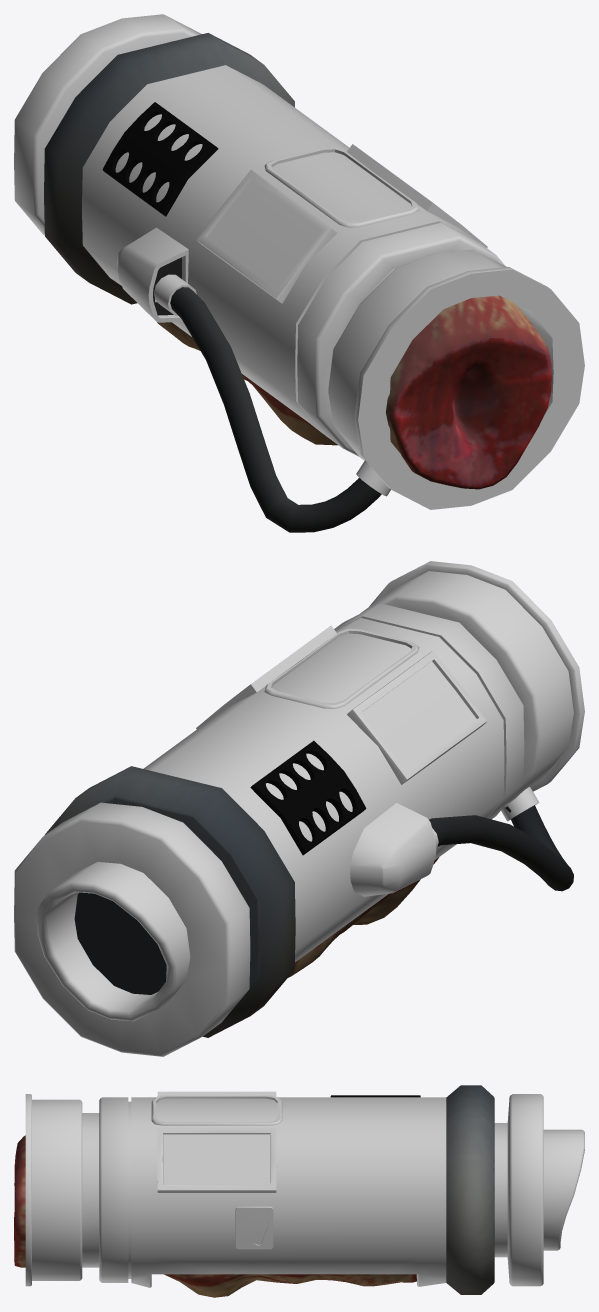
Rendered from flame_cannon_manc.FBX.
3 views of the same model, one above another, from view 1: azimuth 30°, elevation 25°; view 2: azimuth 150°, elevation 25°; view 3: azimuth 270°, elevation 25° (orthographic). The views are drawn at different scales.
Visible parts, largest first — view 1: cannon; view 2: cannon; view 3: cannon.
Boxes of the visible parts, box(x1,y1,x2,y2) form: cannon: box(14, 14, 584, 532); cannon: box(14, 561, 584, 1056); cannon: box(14, 1085, 584, 1297).
Size of the model in its own units: 11.22 by 10.25 by 27.34.
